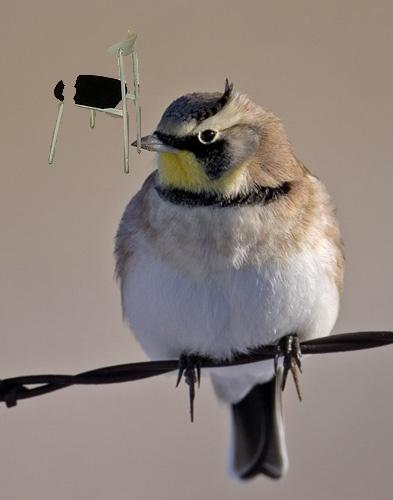tampered: (49, 31, 141, 174)
